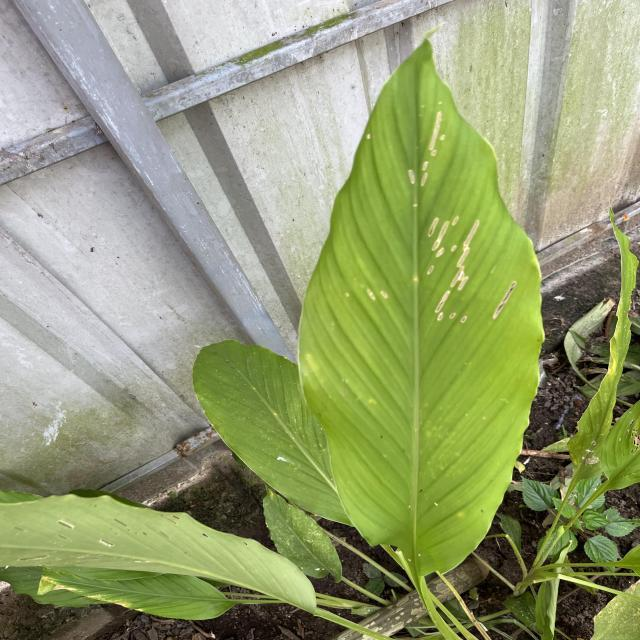Curcuma longa: (286, 19, 555, 585)
